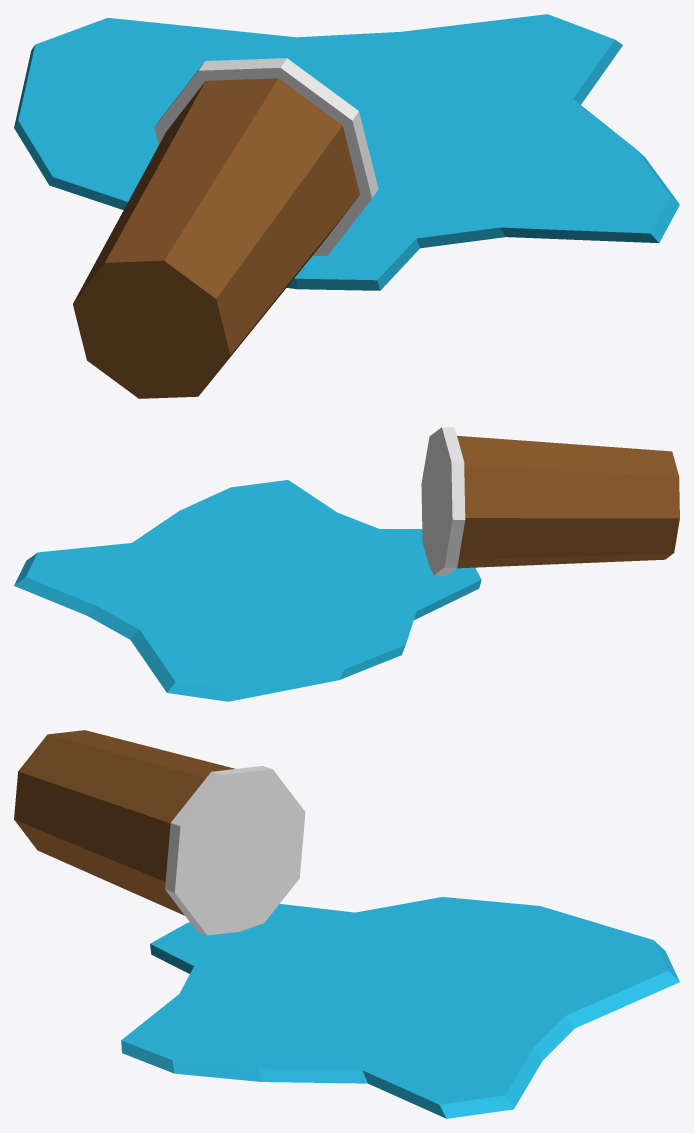
Rendered from trashesDrinks.glb.
3 renders of one model, top to bottom at view 1: azimuth 30°, elevation 25°; view 2: azimuth 150°, elevation 25°; view 3: azimuth 270°, elevation 25°, orthographic. The views are drawn at different scales.
Parts seen in each view (by area): view 1: trashesDrinks; view 2: trashesDrinks; view 3: trashesDrinks.
Part boxes in pixels (box(x1,y1,x2,y2)): trashesDrinks: box(14, 14, 679, 398); trashesDrinks: box(14, 427, 679, 701); trashesDrinks: box(14, 730, 679, 1118).
Bounding box in the file's own units: 0.7778 × 0.2079 × 0.7593.
